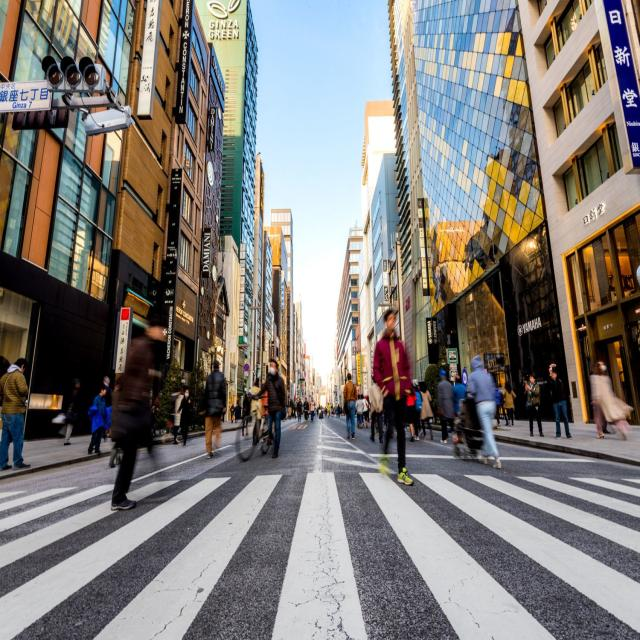body: (108, 315, 170, 516), (372, 308, 414, 485), (469, 353, 502, 470), (587, 363, 635, 443), (0, 355, 29, 470), (253, 359, 286, 459), (199, 359, 227, 461), (51, 377, 83, 446), (548, 362, 573, 440), (87, 387, 108, 456), (436, 369, 455, 444), (524, 372, 544, 437), (451, 375, 468, 444), (368, 378, 384, 444), (597, 360, 611, 435), (343, 372, 358, 440), (177, 388, 193, 448), (418, 381, 434, 441), (403, 388, 417, 443), (172, 390, 185, 445), (103, 375, 114, 439), (412, 379, 423, 441), (502, 380, 516, 428), (147, 386, 162, 424), (316, 402, 344, 420), (498, 382, 509, 427), (241, 393, 251, 437), (492, 383, 502, 427), (354, 393, 364, 429), (360, 393, 369, 429), (308, 395, 316, 422), (302, 396, 310, 422), (296, 398, 303, 422), (234, 402, 240, 423), (286, 403, 292, 421), (230, 402, 235, 423), (293, 403, 298, 420), (326, 402, 331, 418), (222, 404, 226, 423), (284, 405, 288, 420)
